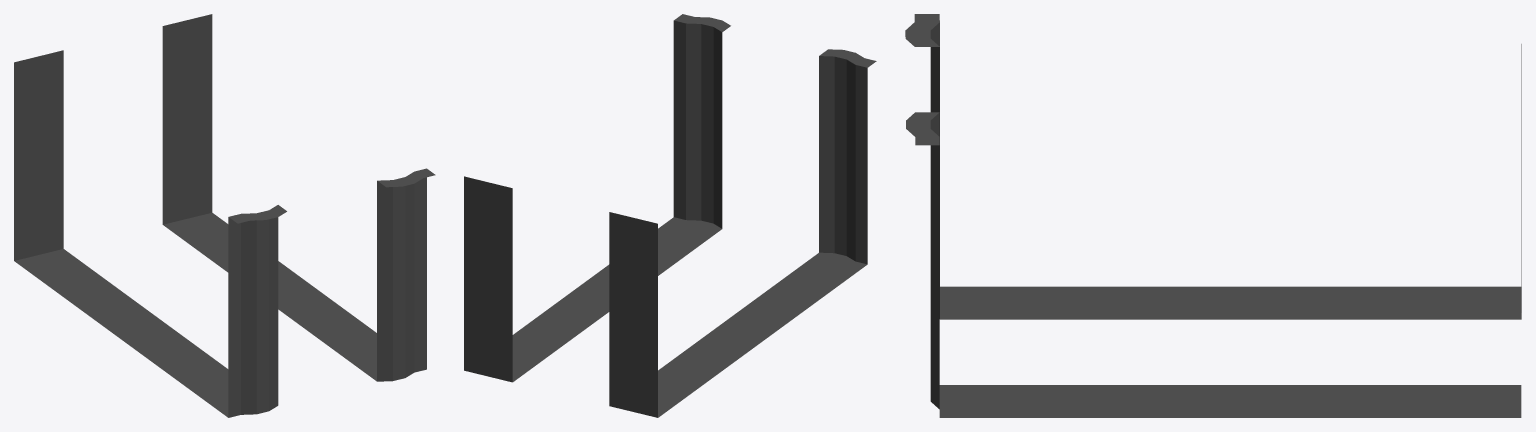
File: model-destruction-scenario-static-level0-road-hole-2.fbx
3 renders of one model, left to right at view 1: azimuth 30°, elevation 25°; view 2: azimuth 150°, elevation 25°; view 3: azimuth 270°, elevation 25°, orthographic. The views are drawn at different scales.
Parts seen in each view (by area): view 1: hole; view 2: hole; view 3: hole.
Part boxes in pixels (x1=…): hole: x1=14, y1=14, x2=435, y2=417; hole: x1=464, y1=14, x2=876, y2=417; hole: x1=905, y1=14, x2=1521, y2=417.
Size of the model in its own units: 41.73 by 21.04 by 20.38.
1 material, 1 textured.
